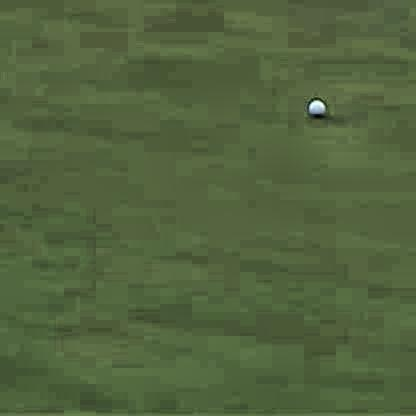golfball: (304, 94, 323, 116)
